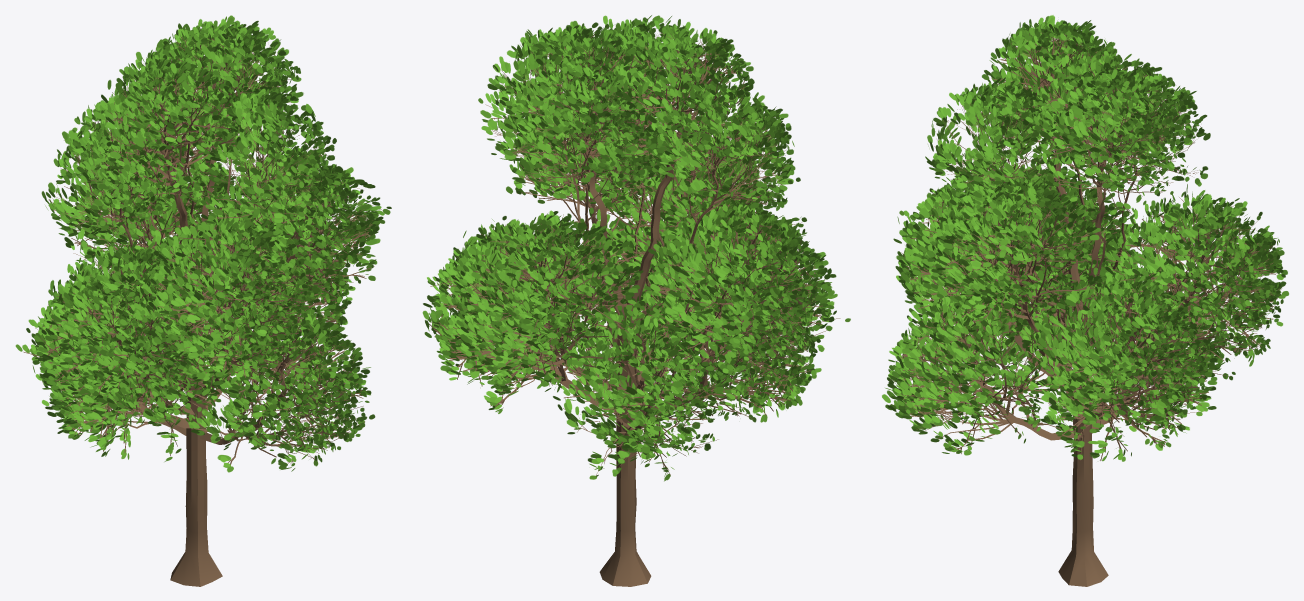
The model's file is tree.glb.
3 renders of one model, left to right at view 1: azimuth 30°, elevation 25°; view 2: azimuth 150°, elevation 25°; view 3: azimuth 270°, elevation 25°, orthographic. The views are drawn at different scales.
Visible parts, largest first — view 1: oak 01, oak 01.001; view 2: oak 01, oak 01.001; view 3: oak 01, oak 01.001.
Boxes of the visible parts, bbox=[...] form: oak 01: bbox=[15, 15, 391, 472]; oak 01.001: bbox=[23, 32, 382, 586]; oak 01: bbox=[422, 15, 850, 481]; oak 01.001: bbox=[429, 28, 840, 586]; oak 01: bbox=[882, 15, 1288, 461]; oak 01.001: bbox=[890, 32, 1281, 586].
Bounding box in the file's own units: 0.3678 × 0.564 × 0.389.
Materials: 2 (1 with a texture image).
